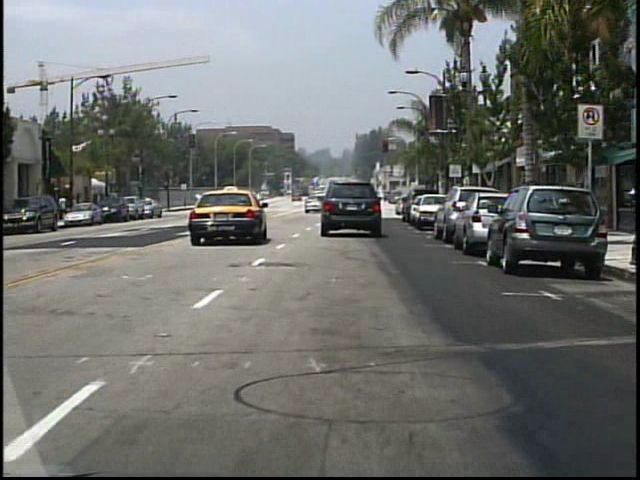person: (61, 193, 71, 222), (323, 191, 335, 213), (257, 190, 269, 211)
